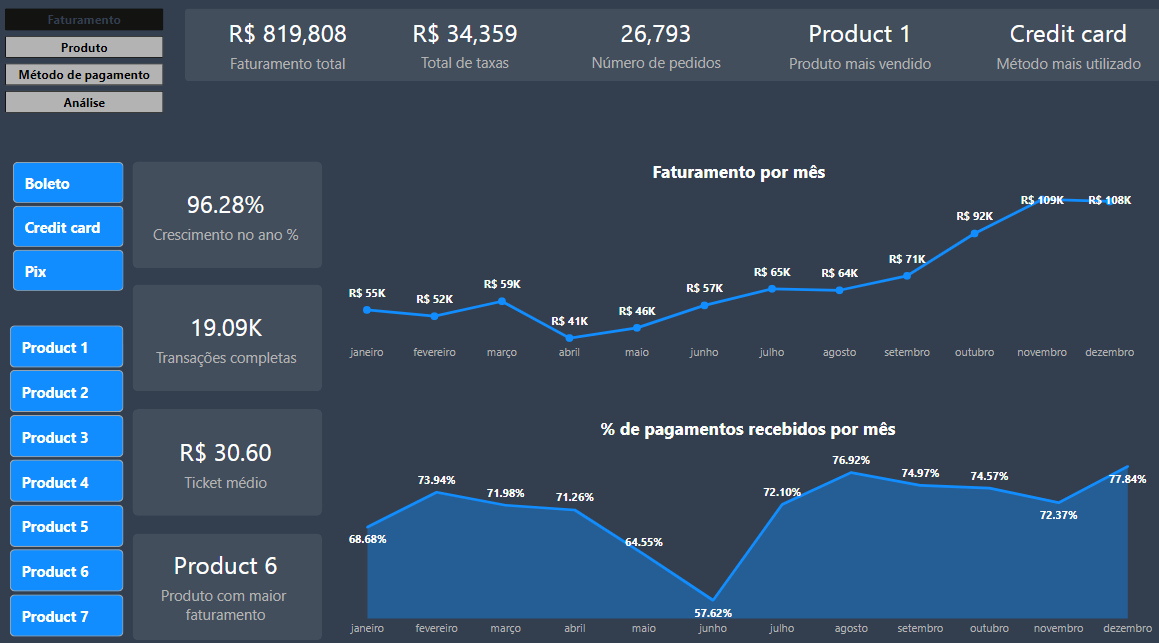

What the dashboard file says about the page in this screenshot:
{"tool":"powerbi","page":{"name":"Faturamento","canvas":[1280,720],"ordinal":0},"visuals":[{"type":"shape","box":[145.4,320.1,207.3,116.6],"z":1000},{"type":"shape","box":[145.4,455.5,207.3,116.6],"z":2000},{"type":"shape","box":[145.4,184.6,207.3,116.6],"z":3000},{"type":"shape","box":[204,17.8,1065.5,79.3],"z":4000},{"type":"card","fields":{"Values":["Sum(Dataset.Amount paid in BRL by End Customer)"]},"box":[215.4,16.2,200.8,79.3],"z":5000},{"type":"card","fields":{"Values":["Sum(Dataset.Fees BRL)"]},"box":[431.1,15.4,155.4,81],"z":6000},{"type":"card","fields":{"Values":["Medidas.Produto mais vendido"]},"box":[849.7,22.6,183,66.4],"z":7000},{"type":"card","fields":{"Values":["Medidas.Método de pagamento mais utilizado"]},"box":[1079.2,17.8,176.5,76.1],"z":8000},{"type":"card","fields":{"Values":["Count(Dataset.Order number)"]},"box":[633.1,15.4,170,81],"z":9000},{"type":"pageNavigator","box":[6.5,17.8,173.3,116.6],"z":10000},{"type":"areaChart","title":"% de pagamentos recebidos por mês","fields":{"Category":["Dataset.Submission date.Variation.Hierarquia de datas.Mês"],"Y":["Medidas.% de pagamentos recebidos"]},"box":[367.6,463.1,901.9,249.4],"z":11000},{"type":"lineChart","title":"Faturamento por mês","fields":{"Category":["Dataset.Submission date.Variation.Hierarquia de datas.Mês"],"Y":["Sum(Dataset.Amount paid in BRL by End Customer)"]},"box":[367.6,183,882.5,228.3],"z":12000},{"type":"card","fields":{"Values":["Medidas.Transações completas"]},"box":[145,336.8,207.3,79.3],"z":13000},{"type":"card","fields":{"Values":["Medidas.dezembro"]},"box":[161.2,195.9,173.3,92.3],"z":14000},{"type":"card","fields":{"Values":["Medidas.Ticket médio"]},"box":[149.8,455,195.9,116.6],"z":15000},{"type":"shape","box":[145.4,591,207.3,116.6],"z":16000},{"type":"card","fields":{"Values":["Medidas.Produto com maior faturamento"]},"box":[149.8,558.6,195.9,155.4],"z":17000},{"type":"advancedSlicerVisual","fields":{"Values":["Dataset.Payment method"]},"box":[9.7,179.7,131.2,152.2],"z":18000},{"type":"advancedSlicerVisual","fields":{"Values":["Dataset.Product"]},"box":[6.5,359.5,134.4,356.2],"z":19000}]}

Visuals, with their boxes in screenshot pixels (x1, y1, x2, y2), scaled from the page's 1280x720 canvas onto the 1159x643 screenshot:
shape: 132,286,319,390
shape: 132,407,319,511
shape: 132,165,319,269
shape: 185,16,1149,87
card - Sum(Dataset.Amount paid in BRL by End Customer): 195,14,377,85
card - Sum(Dataset.Fees BRL): 390,14,531,86
card - Medidas.Produto mais vendido: 769,20,935,79
card - Medidas.Método de pagamento mais utilizado: 977,16,1137,84
card - Count(Dataset.Order number): 573,14,727,86
pageNavigator: 6,16,163,120
"% de pagamentos recebidos por mês" areaChart: 333,414,1149,636
"Faturamento por mês" lineChart: 333,163,1132,367
card - Medidas.Transações completas: 131,301,319,372
card - Medidas.dezembro: 146,175,303,257
card - Medidas.Ticket médio: 136,406,313,510
shape: 132,528,319,632
card - Medidas.Produto com maior faturamento: 136,499,313,638
advancedSlicerVisual - Dataset.Payment method: 9,160,128,296
advancedSlicerVisual - Dataset.Product: 6,321,128,639
